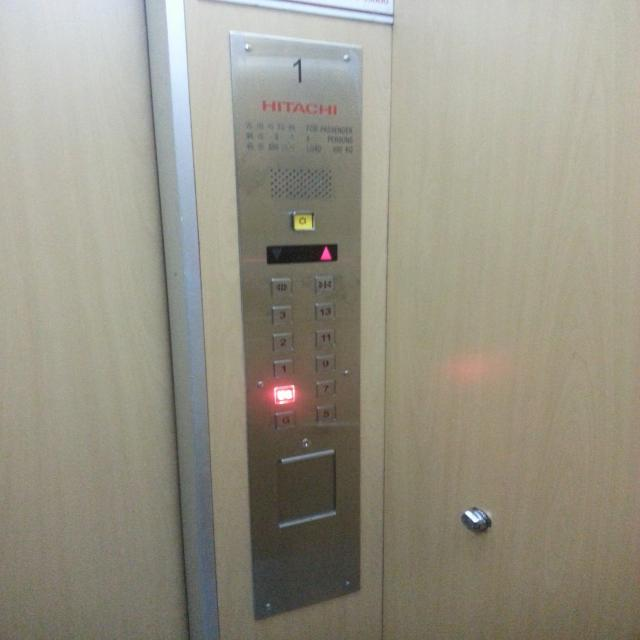1: (271, 356, 297, 381)
11: (314, 326, 336, 349)
13: (314, 302, 337, 323)
2: (270, 330, 295, 354)
3: (270, 305, 294, 328)
5: (315, 402, 337, 426)
7: (314, 378, 336, 400)
9: (314, 353, 336, 375)
G: (272, 410, 296, 434)
UG: (273, 382, 296, 408)
alarm: (291, 209, 315, 234)
close: (313, 273, 335, 296)
open: (269, 276, 294, 301)
